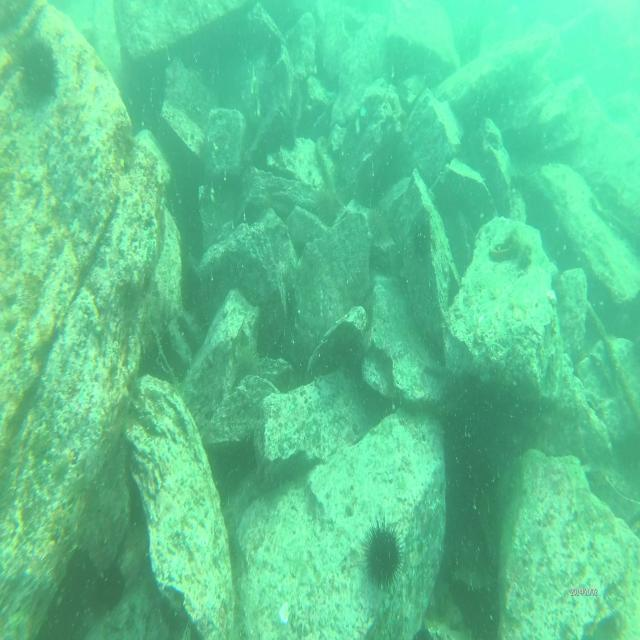echinus: (358, 518, 406, 596), (15, 33, 64, 107), (232, 340, 266, 388), (96, 558, 127, 608)
